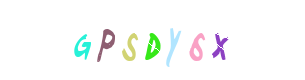6: (117, 0, 197, 80)
D: (112, 0, 192, 80)
G: (42, 0, 122, 80)
P: (93, 0, 173, 80)
S: (112, 0, 192, 80)
X: (148, 0, 228, 80)
Y: (116, 0, 196, 80)
